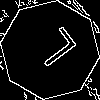L: (25, 25, 78, 75)
